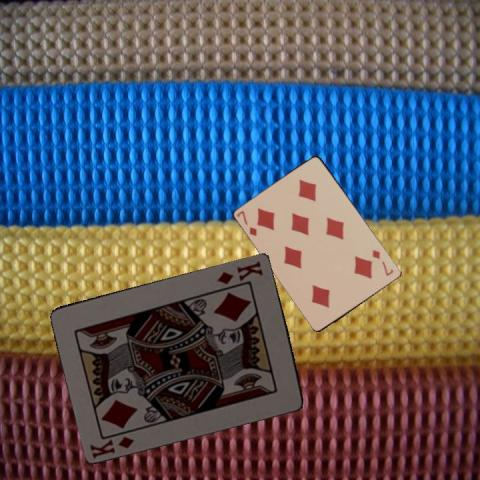7d: (370, 247, 396, 277), (234, 208, 259, 238)
Kd: (87, 426, 139, 459), (213, 258, 265, 285)
